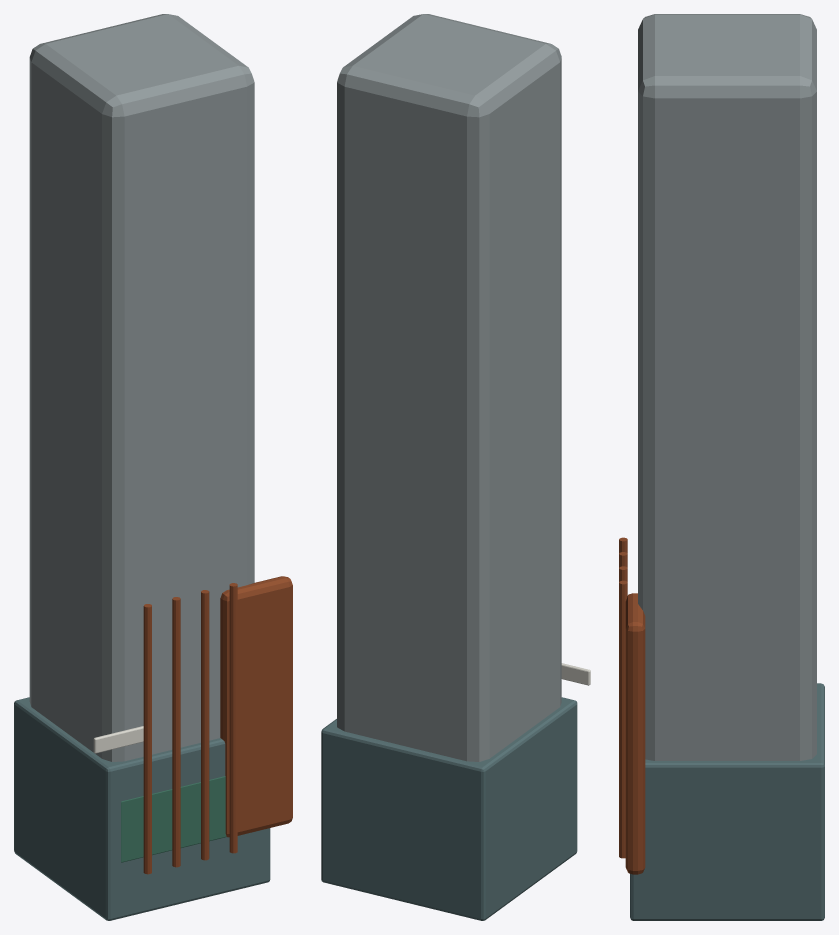
File: SM_FC01_Structure_Column_Damaged_A.fbx
3 views of the same model, side by side, from view 1: azimuth 30°, elevation 25°; view 2: azimuth 150°, elevation 25°; view 3: azimuth 270°, elevation 25° (orthographic). The views are drawn at different scales.
Parts seen in each view (by area): view 1: SM_FC01_Structure_Column_Damaged_A_Core, SM_FC01_Structure_Column_Damaged_A_WetBand, SM_FC01_Structure_Column_Damaged_A_Spall, SM_FC01_Structure_Column_Damaged_A_AlgaeBand, SM_FC01_Structure_Column_Damaged_A_Rebar_02, SM_FC01_Structure_Column_Damaged_A_Rebar_03, SM_FC01_Structure_Column_Damaged_A_Rebar_00, SM_FC01_Structure_Column_Damaged_A_Rebar_01, SM_FC01_Structure_Column_Damaged_A_Salt_00; view 2: SM_FC01_Structure_Column_Damaged_A_Core, SM_FC01_Structure_Column_Damaged_A_WetBand; view 3: SM_FC01_Structure_Column_Damaged_A_Core, SM_FC01_Structure_Column_Damaged_A_WetBand, SM_FC01_Structure_Column_Damaged_A_Spall, SM_FC01_Structure_Column_Damaged_A_Rebar_03.
Boxes of the visible parts, x1,y1,x2,y2 form: SM_FC01_Structure_Column_Damaged_A_Core: (29,14,254,761); SM_FC01_Structure_Column_Damaged_A_WetBand: (14,697,270,920); SM_FC01_Structure_Column_Damaged_A_Spall: (220,576,292,837); SM_FC01_Structure_Column_Damaged_A_AlgaeBand: (121,776,226,862); SM_FC01_Structure_Column_Damaged_A_Rebar_02: (201,590,209,860); SM_FC01_Structure_Column_Damaged_A_Rebar_03: (229,583,237,853); SM_FC01_Structure_Column_Damaged_A_Rebar_00: (143,604,151,874); SM_FC01_Structure_Column_Damaged_A_Rebar_01: (172,597,180,867); SM_FC01_Structure_Column_Damaged_A_Salt_00: (93,726,143,753); SM_FC01_Structure_Column_Damaged_A_Core: (337,14,561,761); SM_FC01_Structure_Column_Damaged_A_WetBand: (321,697,577,920); SM_FC01_Structure_Column_Damaged_A_Core: (638,14,816,760); SM_FC01_Structure_Column_Damaged_A_WetBand: (630,683,824,920); SM_FC01_Structure_Column_Damaged_A_Spall: (625,593,645,874); SM_FC01_Structure_Column_Damaged_A_Rebar_03: (619,580,627,858).
Bounding box in the file's own units: 0.9728 × 3.81 × 0.8505.
